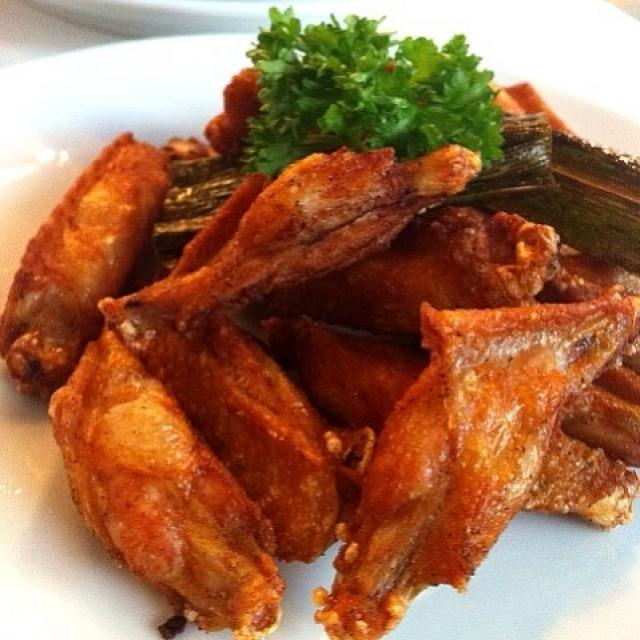Deep fried chicken wing: (24, 116, 632, 600)
